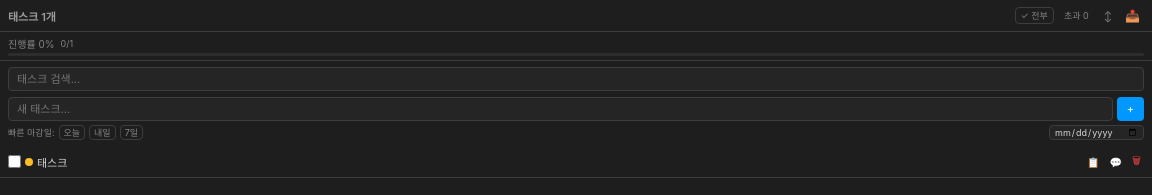
Test: TasksPanel › 검색 결과 없으면 결과없음 메시지가 표시된다
This screenshot has width=1152, height=195.
Type "xyz없음" into the field with placeholder "태스크 검색...".
click(576, 79); type("xyz없음")  # box [8,67,1144,91]
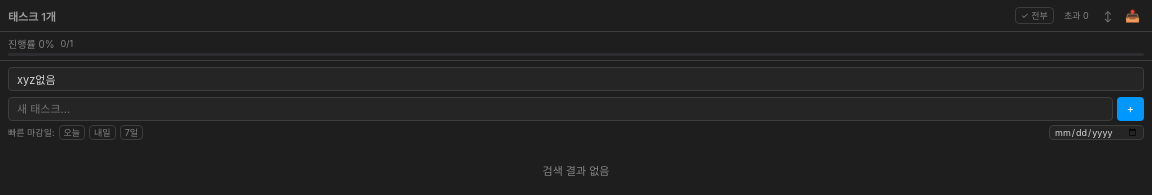
expect the text "검색 결과 없음" is shown: met, box [542,164,609,178]
